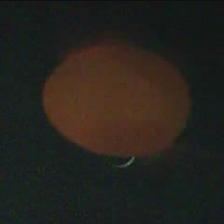fertile: (40, 43, 196, 160)
